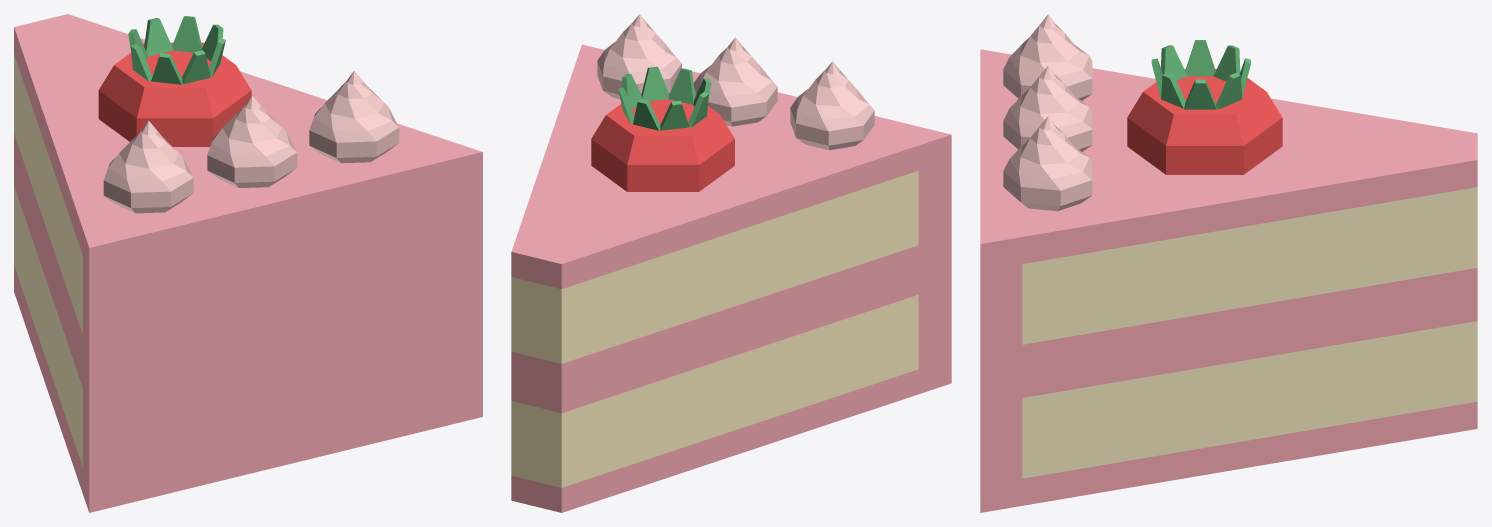
The model's file is StrawberryCake.fbx.
3 views of the same model, side by side, from view 1: azimuth 30°, elevation 25°; view 2: azimuth 150°, elevation 25°; view 3: azimuth 270°, elevation 25° (orthographic). The views are drawn at different scales.
Parts seen in each view (by area): view 1: polySurface733; view 2: polySurface733; view 3: polySurface733.
Part boxes in pixels (<box>): polySurface733: <box>14,14,482,512</box>; polySurface733: <box>511,14,951,512</box>; polySurface733: <box>980,14,1477,512</box>.
Size of the model in its own units: 15.05 by 12.79 by 16.24.
